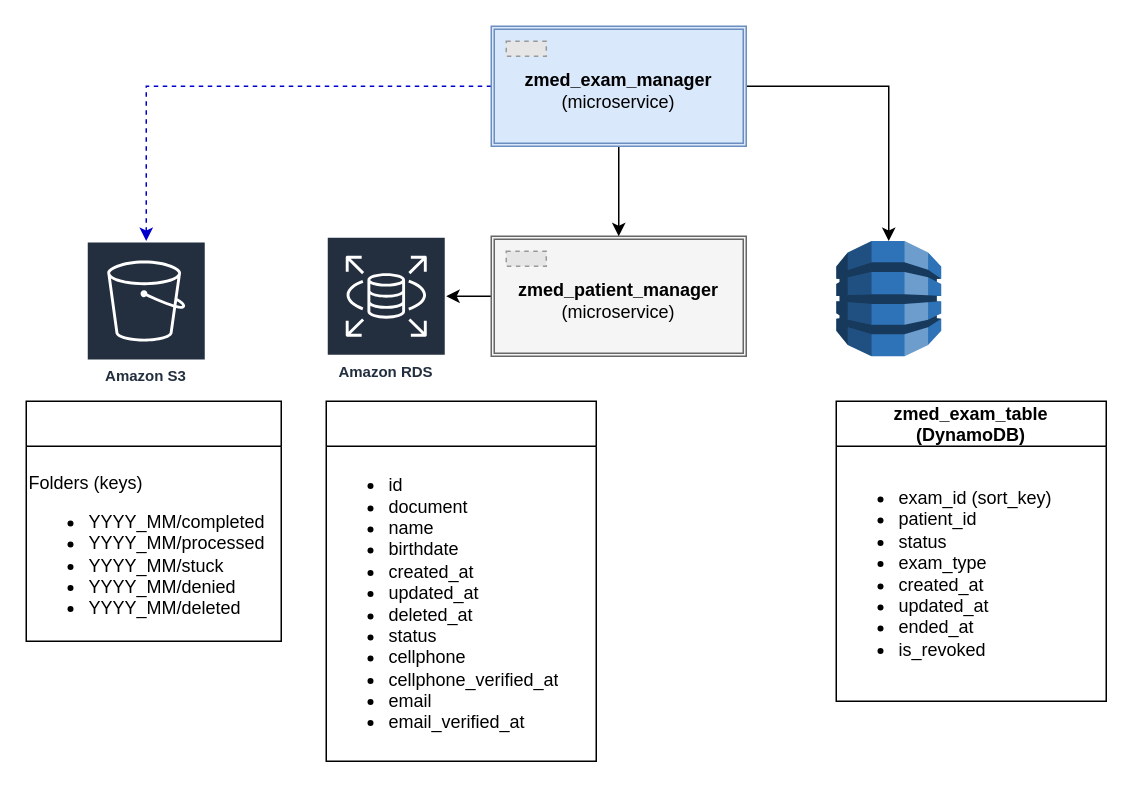
Image size: 1133x788. Some labels were removed from this diagram. Grey dashed boxes stand in for pictures. The shapes that lost their labels are listed below. From the top down, each one's box as (x1, y1, x2, y2) in pixels, then its label:
(25, 400, 281, 641): zmed_exams_results (S3 storage)
(325, 400, 596, 761): zmed_patient_table (Postgres)
